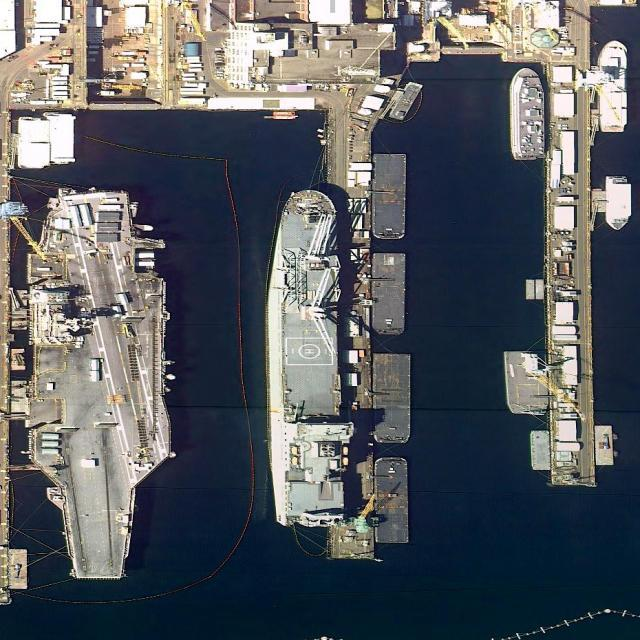Aircraft Carrier: (28, 188, 169, 579)
Dock: (321, 107, 376, 559), (546, 63, 595, 487)
Other Ship: (374, 354, 410, 441), (511, 67, 544, 161), (376, 456, 408, 544), (599, 39, 628, 132), (374, 156, 405, 237), (375, 253, 406, 333), (389, 78, 423, 125), (606, 173, 632, 231)
RoRo: (266, 188, 354, 529)
